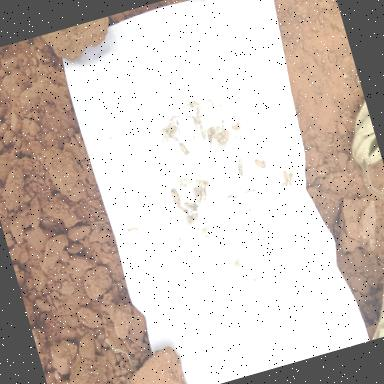pbw: (170, 187, 184, 207), (192, 186, 204, 205), (254, 157, 268, 171), (198, 176, 212, 190), (179, 142, 191, 158), (185, 200, 198, 214), (210, 124, 224, 137), (199, 124, 209, 142), (198, 185, 210, 200), (236, 158, 246, 176), (282, 170, 293, 186), (178, 202, 190, 216), (206, 128, 216, 144), (166, 125, 178, 138), (217, 138, 228, 150), (212, 131, 225, 141), (222, 128, 231, 142), (231, 122, 243, 132), (287, 171, 296, 183)
